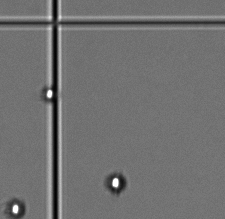Living Cell: (105, 172, 128, 194), (7, 198, 26, 217), (41, 84, 57, 103)
